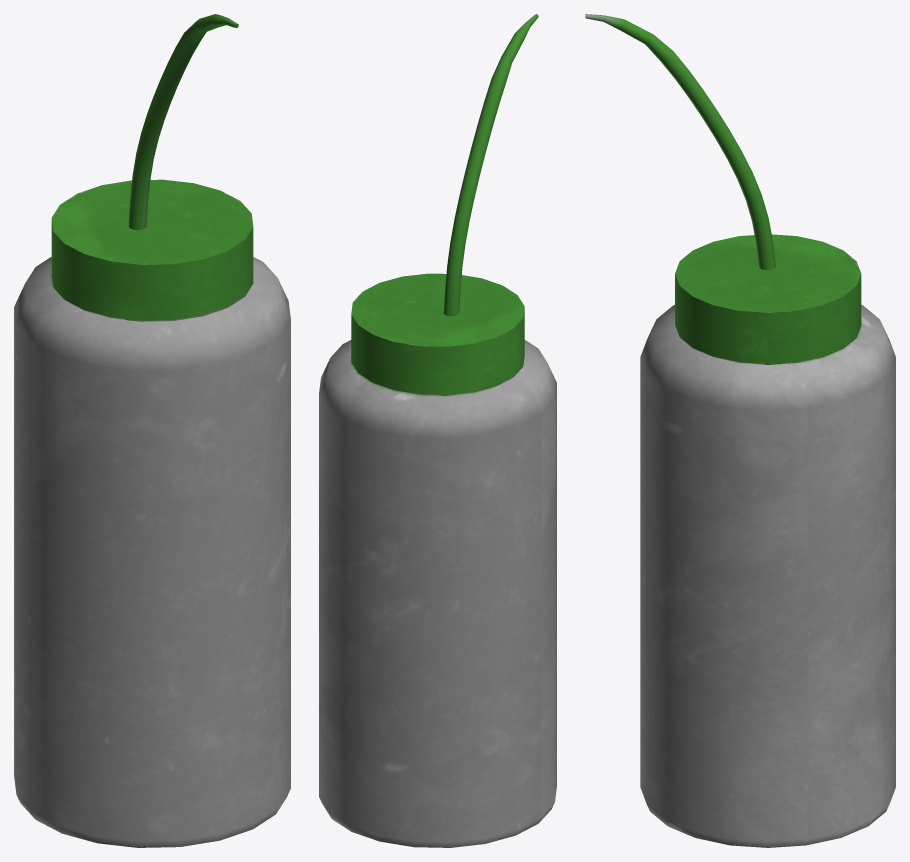
The model's file is SM_Bottle_14.fbx.
3 views of the same model, side by side, from view 1: azimuth 30°, elevation 25°; view 2: azimuth 150°, elevation 25°; view 3: azimuth 270°, elevation 25° (orthographic). The views are drawn at different scales.
Parts seen in each view (by area): view 1: SM_Bottle_14_LOD0; view 2: SM_Bottle_14_LOD0; view 3: SM_Bottle_14_LOD0.
Part boxes in pixels (box(x1,y1,x2,y2)): SM_Bottle_14_LOD0: box(14, 14, 290, 847); SM_Bottle_14_LOD0: box(319, 14, 556, 847); SM_Bottle_14_LOD0: box(585, 14, 895, 847).
Bounding box in the file's own units: 7.24 × 8.81 × 24.35.
Materials: 1 (1 with a texture image).
